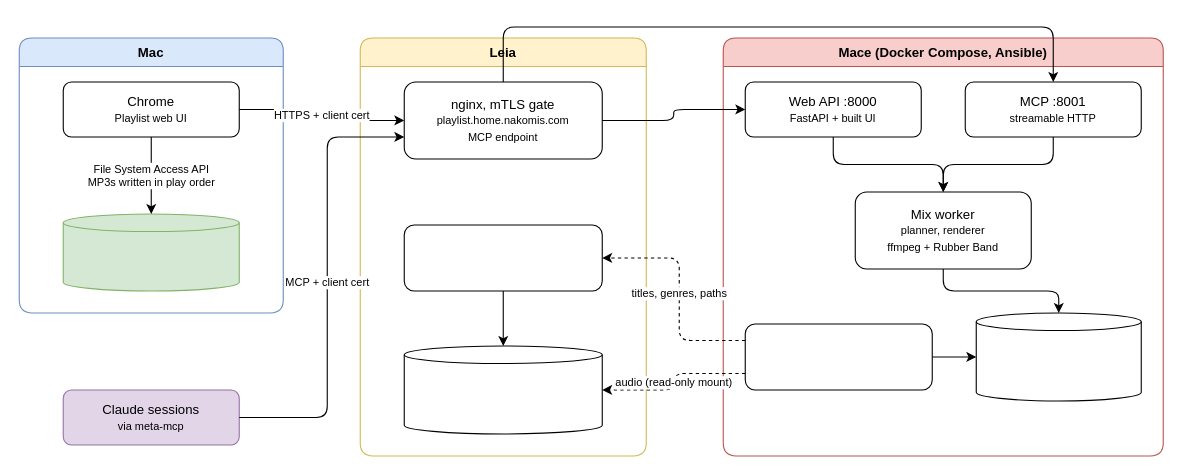
The diagram is 1183 pixels wide and 475 high, and some of its shapes have lost their labels. Here are the shapes that lost their labels. From the top down, the centre of each, then its label:
At [150,252]: "Swimming headphones USB mass storage".
At [502,257]: "Plex Media Server Music (CC) / Purchased".
At [838,356]: "Library sync + analyser tempo, beat grid, key, loudness".
At [1058,356]: "/data volume SQLite cache, mixes (7 days)".
At [502,389]: "NAS: /mnt/data/plex music/, purchased/ (L&L)".
